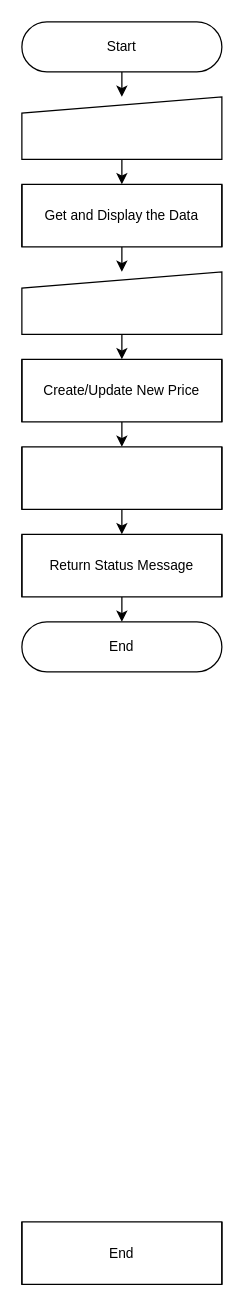
Some shapes in this 244 by 1306 pixel diagram are drawn without their labels. The shapes that lost their labels are listed below. From the top down, each one's centre as x and y in pixels, then its label:
At pixel 121 127: "Input / Selection Screen".
At pixel 121 302: "Enter Suggested Price".
At pixel 121 477: "Delete Active Price".
